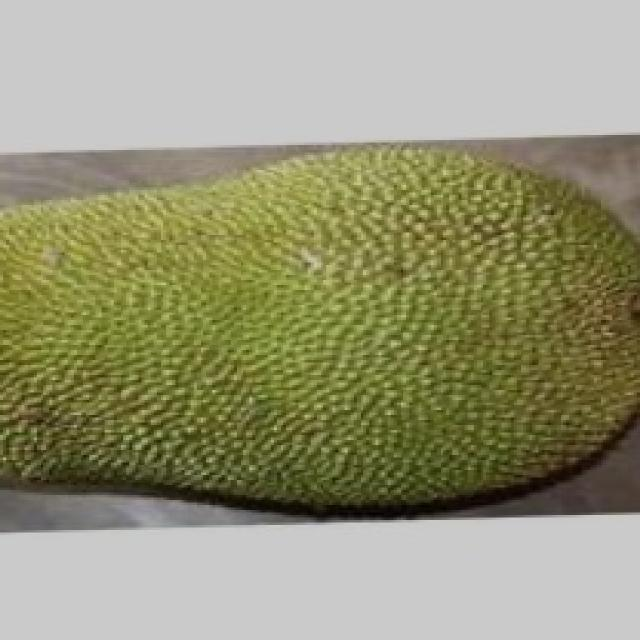Fruit: (0, 148, 400, 522), (255, 125, 640, 513)
